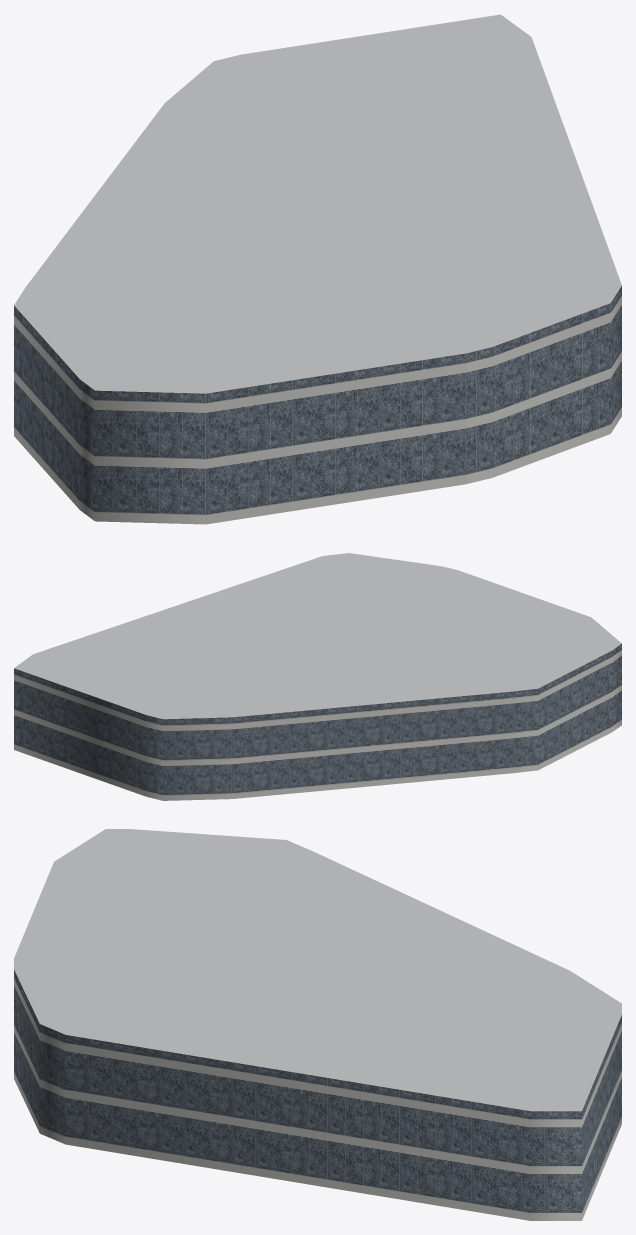
Rendered from bldg_near_01.glb.
The picture shows the model from 3 angles, top to bottom: view 1: azimuth 30°, elevation 25°; view 2: azimuth 150°, elevation 25°; view 3: azimuth 270°, elevation 25°; orthographic projection. The views are drawn at different scales.
Visible parts, largest first — view 1: bldg_near_01.roof, bldg_near_01.facade; view 2: bldg_near_01.roof, bldg_near_01.facade; view 3: bldg_near_01.roof, bldg_near_01.facade.
Boxes of the visible parts, x1,y1,x2,y2 form: bldg_near_01.roof: [14, 14, 621, 393]; bldg_near_01.facade: [14, 286, 621, 524]; bldg_near_01.roof: [14, 553, 621, 719]; bldg_near_01.facade: [14, 644, 621, 800]; bldg_near_01.roof: [14, 829, 621, 1111]; bldg_near_01.facade: [14, 970, 621, 1220].
Bounding box in the file's own units: 51.73 × 9.37 × 47.1.
2 materials, 1 textured.
